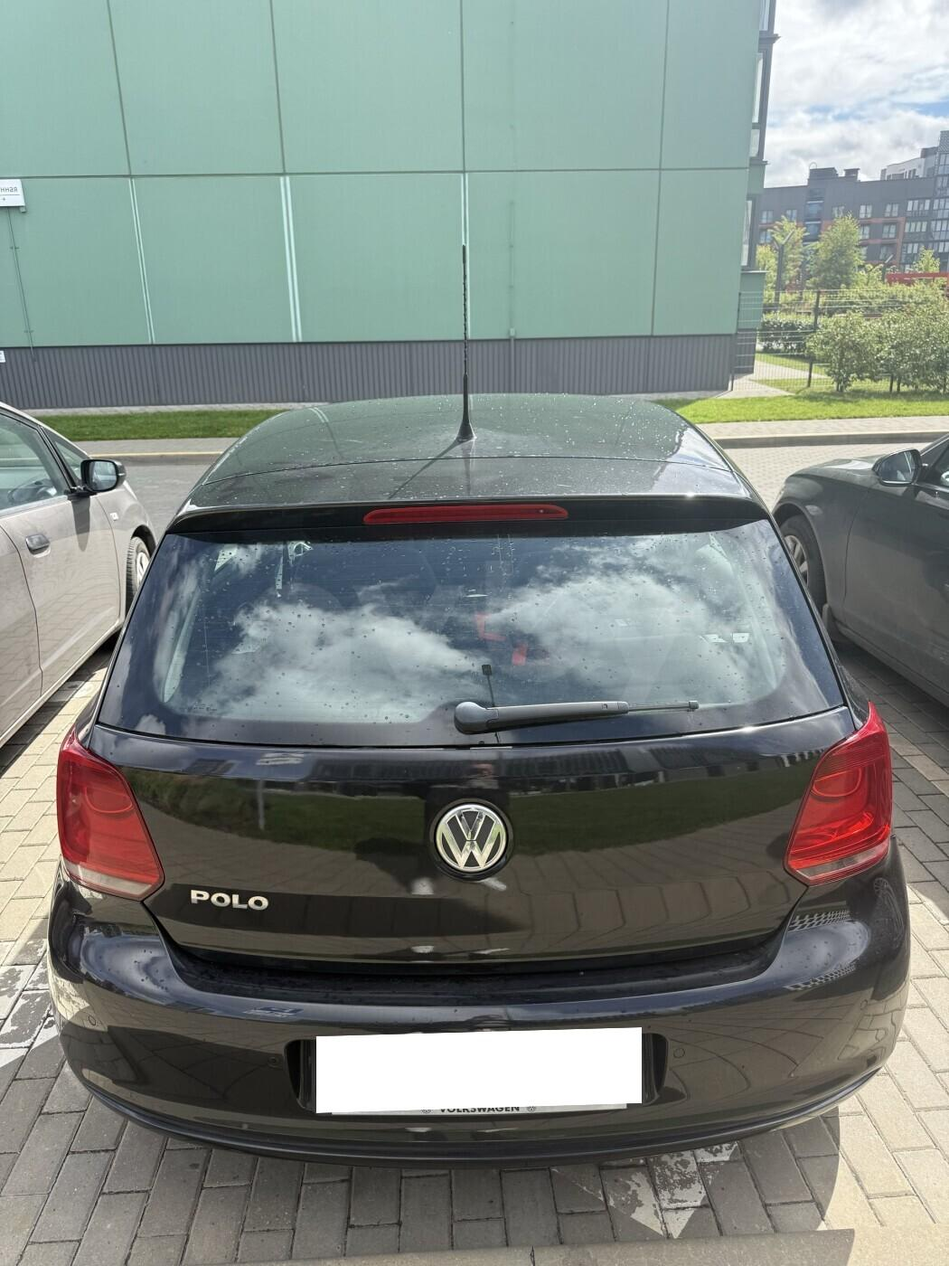Polo_2009-2015: (29, 372, 913, 1189)
